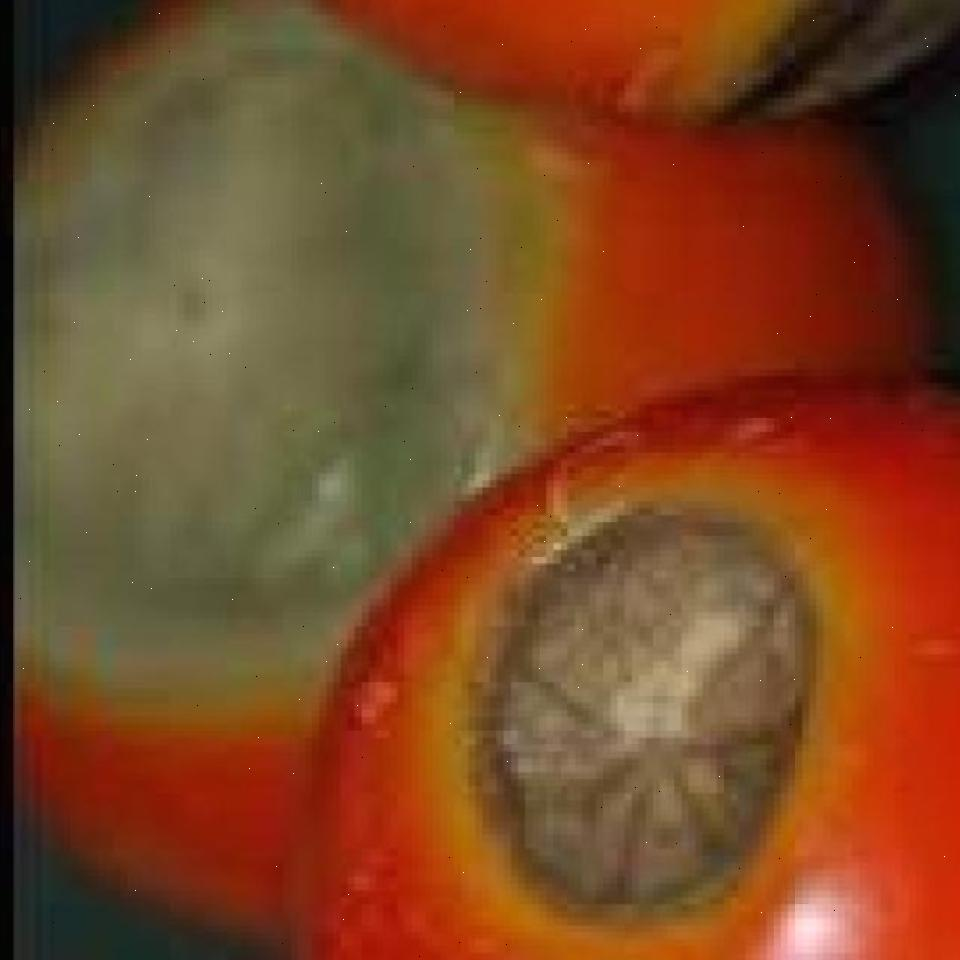Blossom_end_rot: (0, 18, 560, 720), (460, 518, 822, 942), (686, 8, 944, 162)
